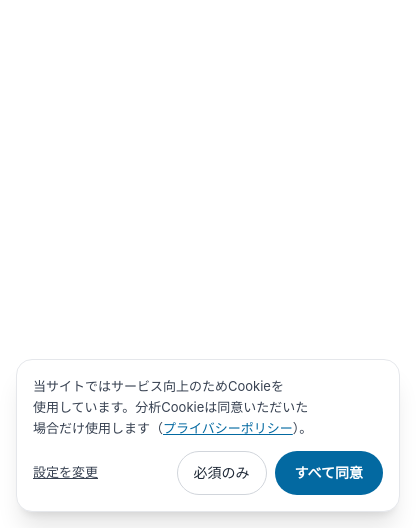
Test case: 分析Cookieの説明は、セッション録画とそれを行わない画面を伝える
Click the button "設定を変更".
click(66, 473)  # box [33,451,98,495]
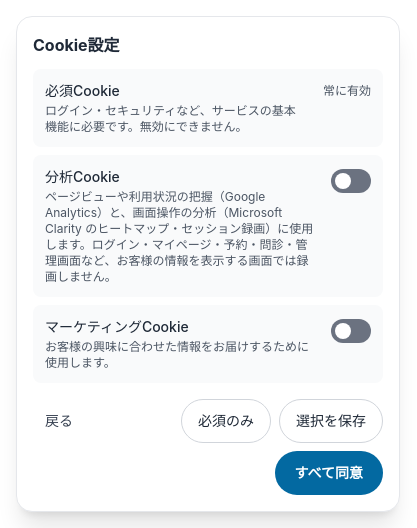
Expected: the text "マイページ・予約・問診・管理画面など、お客様の情報を表示する画面では録画しません" is shown, [45,189,313,284]
